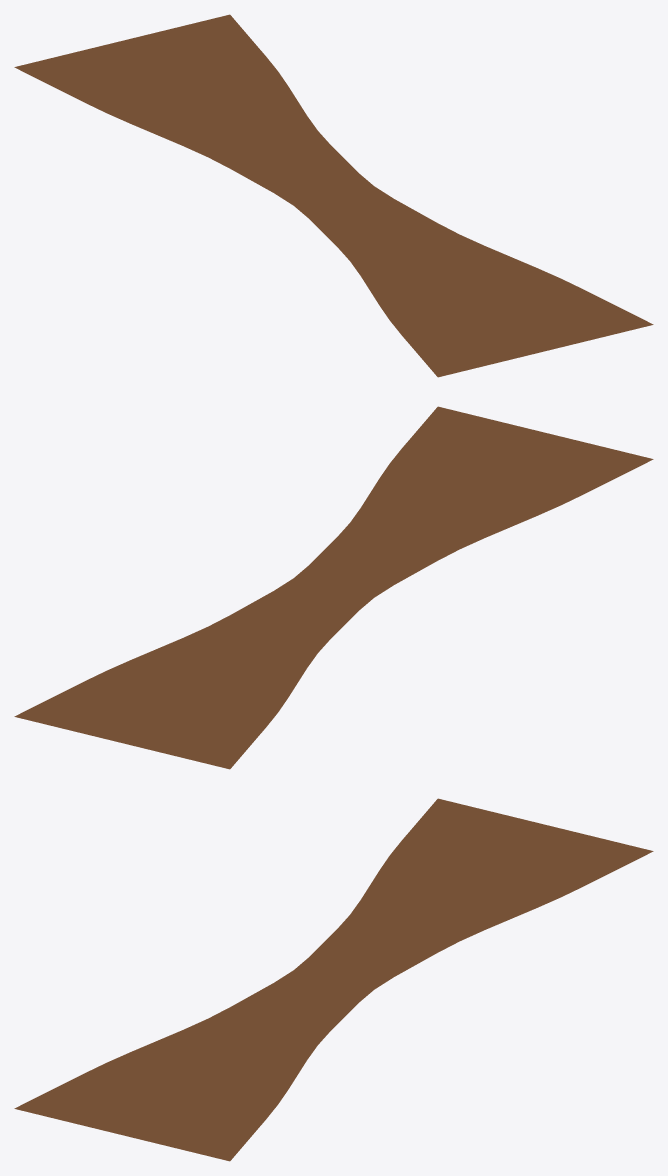
The model's file is FieldPath.fbx.
3 views of the same model, one above another, from view 1: azimuth 30°, elevation 25°; view 2: azimuth 150°, elevation 25°; view 3: azimuth 330°, elevation 25° (orthographic).
Parts seen in each view (by area): view 1: pasted__pPlane7; view 2: pasted__pPlane7; view 3: pasted__pPlane7.
Boxes of the visible parts, x1=… form: pasted__pPlane7: x1=14, y1=14, x2=653, y2=377; pasted__pPlane7: x1=14, y1=406, x2=653, y2=769; pasted__pPlane7: x1=14, y1=798, x2=653, y2=1161.
Bounding box in the file's own units: 98.36 × 7.42e-14 × 334.
